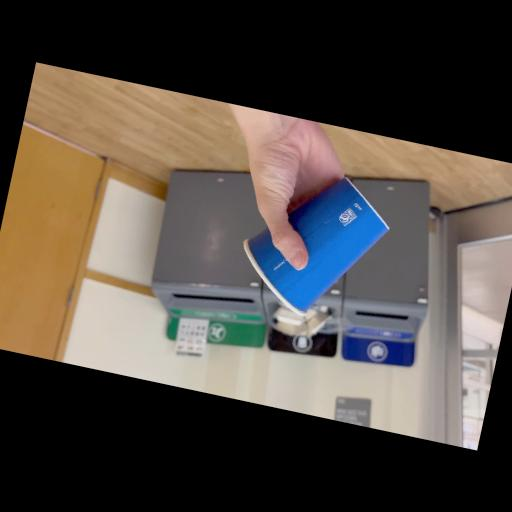lp_paper_cup: (231, 158, 399, 330)
